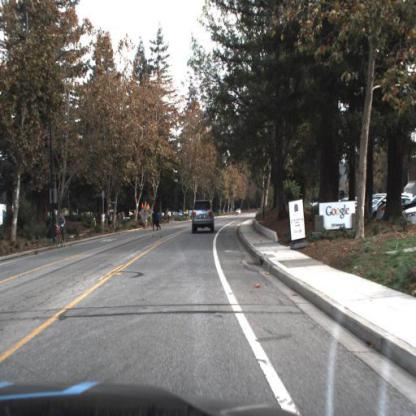biker: (55, 213, 67, 251), (56, 211, 68, 249), (185, 208, 190, 225)
car: (192, 199, 216, 234)
pedestrian: (107, 210, 114, 232), (92, 214, 98, 233), (153, 210, 157, 233), (157, 210, 161, 232)
